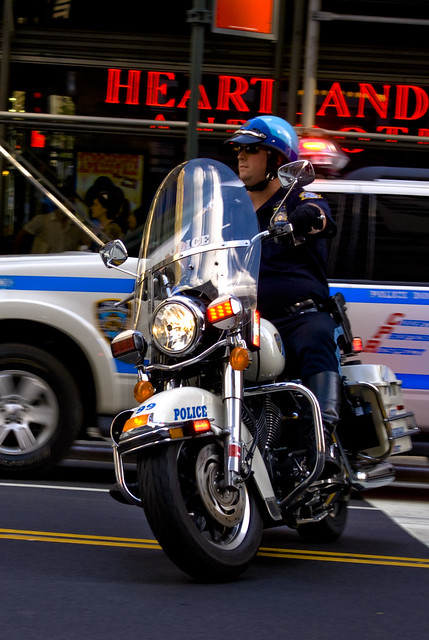helmet: (233, 111, 303, 169)
